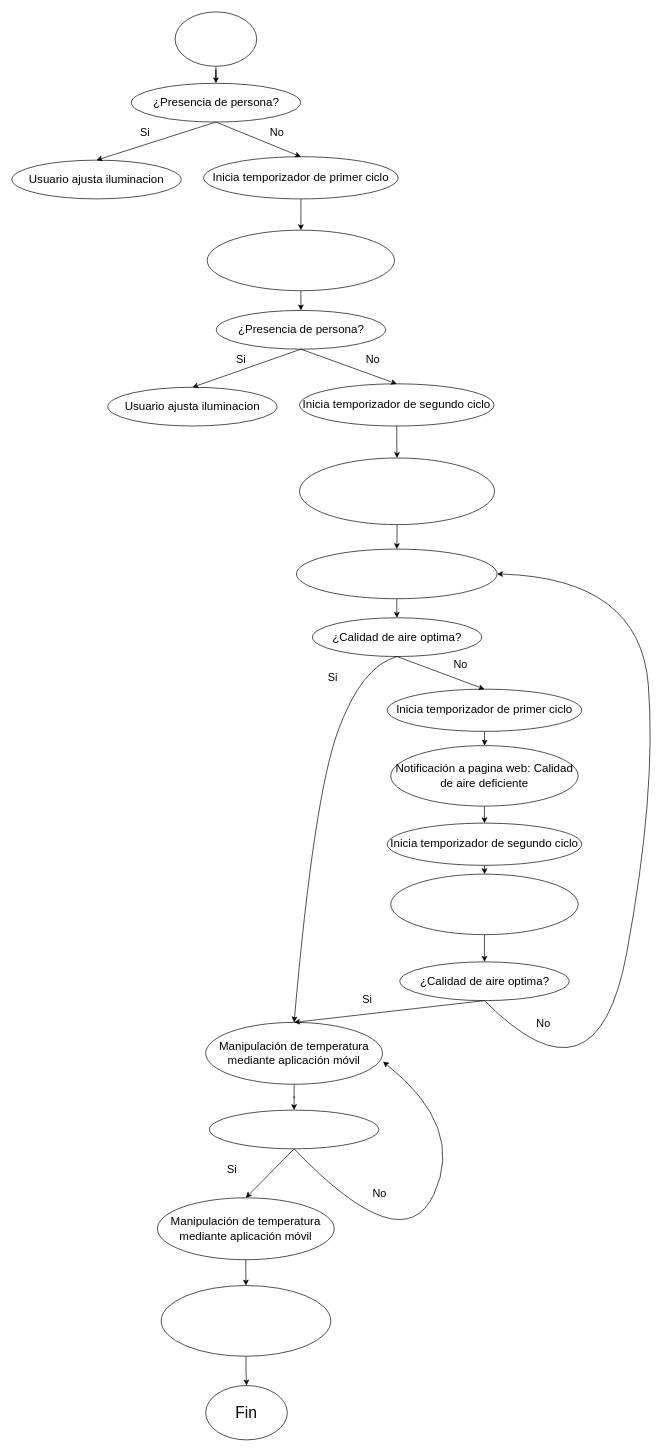
The diagram is 662 pixels wide and 1452 high, and some of its shapes have lost their labels. The shapes that lost their labels are listed below. From the top down, each one's centre as x and y in pixels, then its label:
At [215,38]: "Inicio".
At [301,260]: "Notificación a pagina web: Sin presencia humana".
At [397,491]: "Notificación a pagina web: Sistema de iluminación apagado".
At [396,573]: "Análisis de calidad de aire".
At [484,904]: "Notificación a pagina web: Calidad de aire optima".
At [294,1129]: "¿Temperatura Aceptable?".
At [245,1320]: "Manipulación sobre el acceso a la habitacion".
